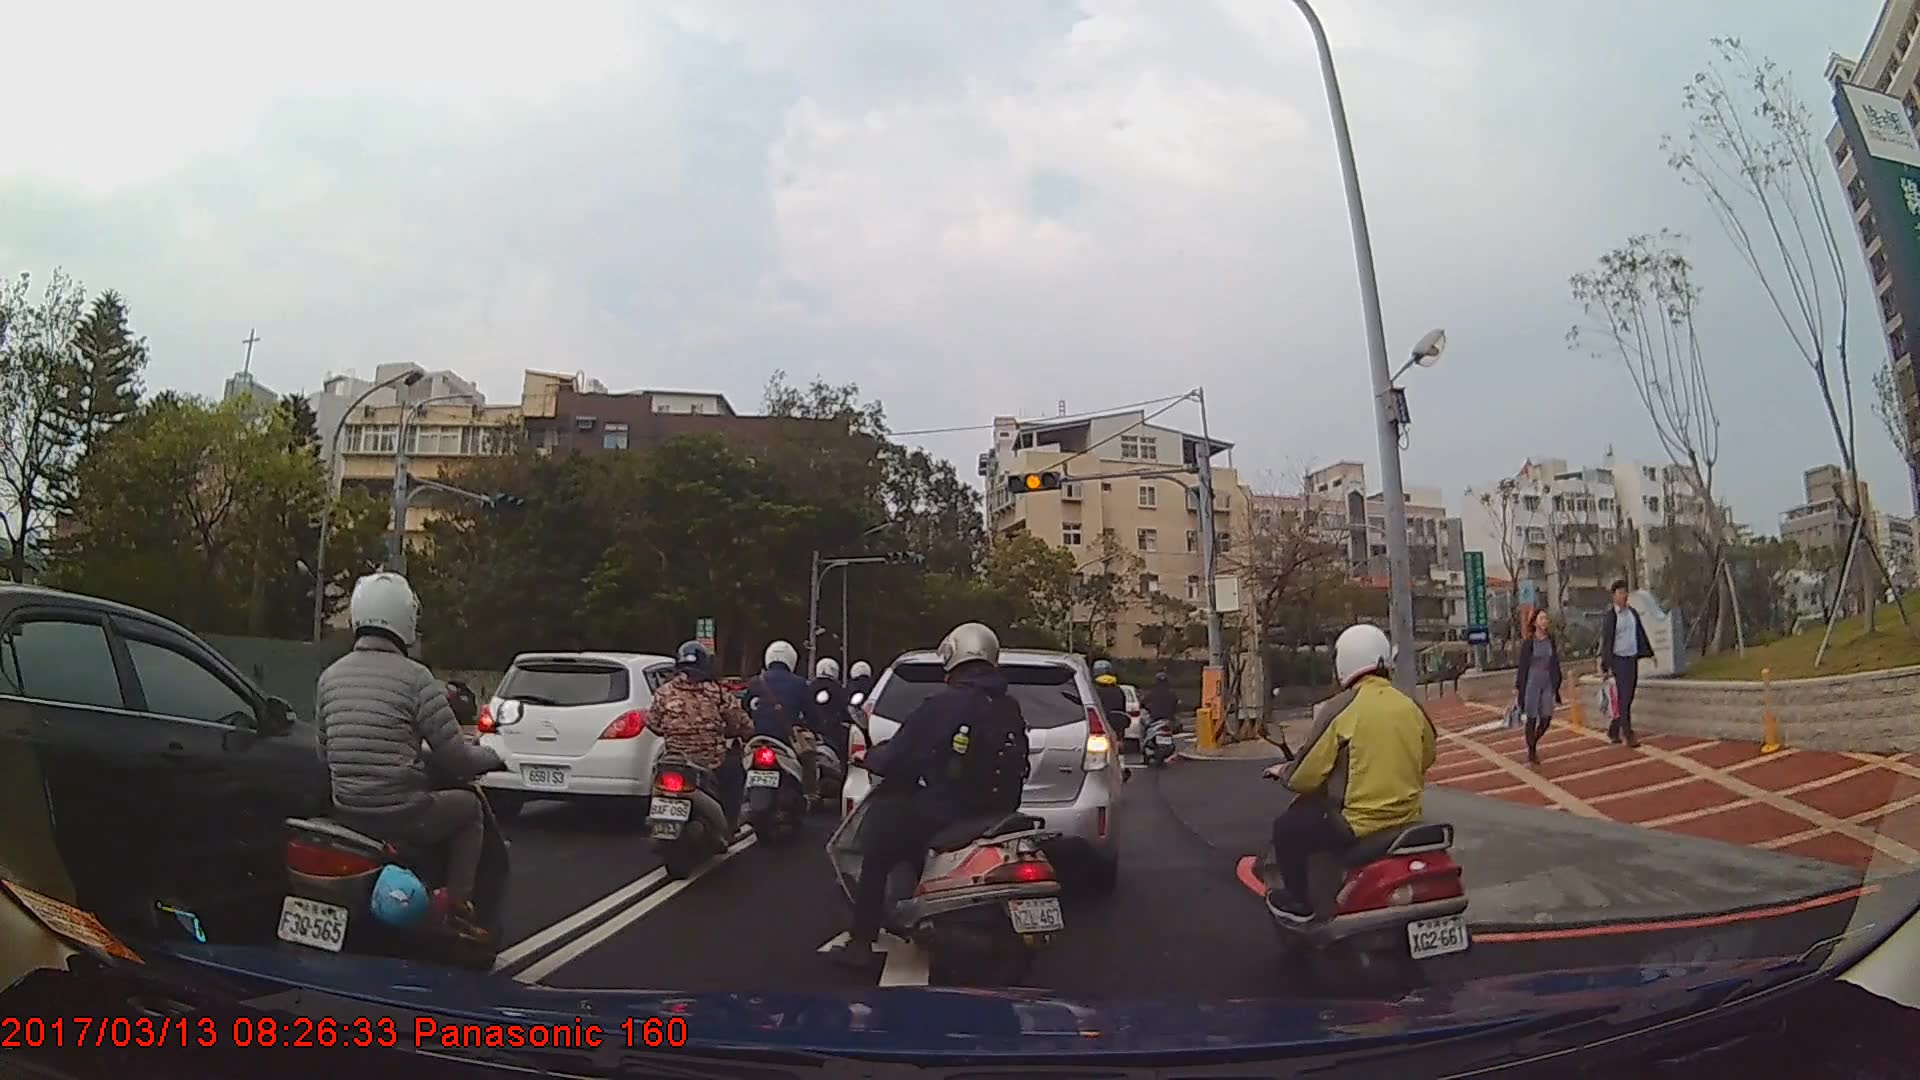pedestrian: (1593, 579, 1660, 745), (1501, 608, 1568, 773)
rider: (272, 570, 516, 1004), (823, 621, 1069, 993), (1261, 624, 1478, 1007), (643, 640, 753, 883), (732, 635, 829, 843), (805, 657, 859, 798), (1079, 657, 1134, 794), (1142, 673, 1181, 761)
vehicle: (0, 580, 400, 955), (842, 645, 1119, 888), (473, 649, 743, 823)
